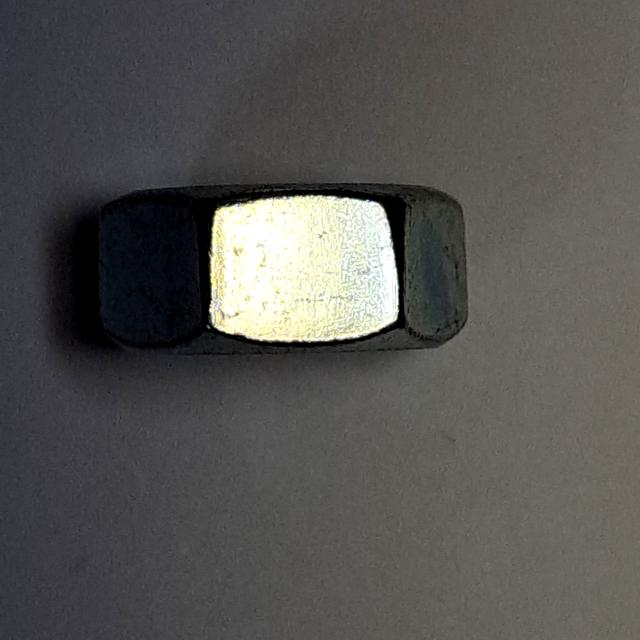Side_Excellent: (70, 169, 485, 381)
